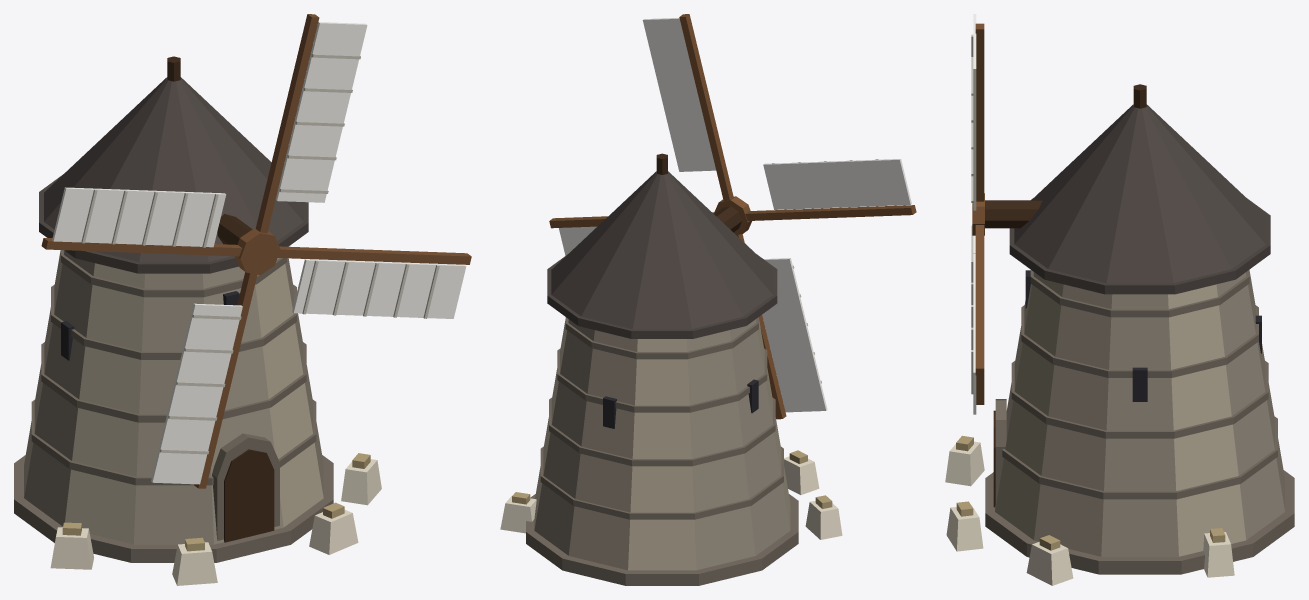
Rendered from windmill-2x2-t5.glb.
3 views of the same model, side by side, from view 1: azimuth 30°, elevation 25°; view 2: azimuth 150°, elevation 25°; view 3: azimuth 270°, elevation 25° (orthographic). The views are drawn at different scales.
Parts seen in each view (by area): view 1: windmill-2x2-t5; view 2: windmill-2x2-t5; view 3: windmill-2x2-t5.
Boxes of the visible parts, bbox=[...] form: windmill-2x2-t5: bbox=[14, 14, 471, 585]; windmill-2x2-t5: bbox=[500, 14, 916, 585]; windmill-2x2-t5: bbox=[945, 14, 1294, 585].
Bounding box in the file's own units: 1.9 × 2.25 × 1.4.
Materials: 1 (1 with a texture image).
